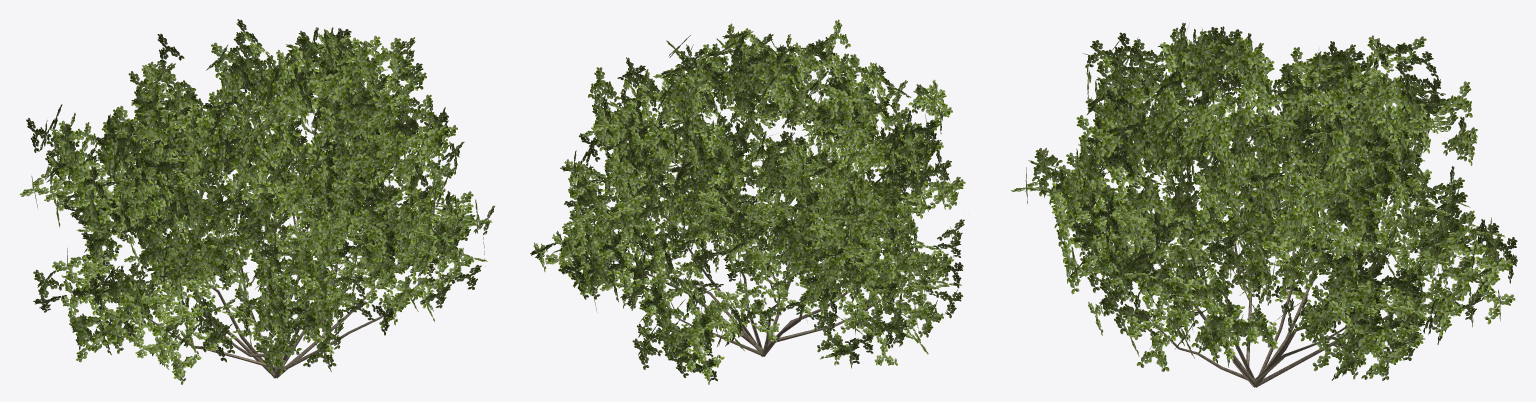
File: Cercocarpus_Montanus_Autumn_Young.glb
The picture shows the model from 3 angles, left to right: view 1: azimuth 30°, elevation 25°; view 2: azimuth 150°, elevation 25°; view 3: azimuth 270°, elevation 25°; orthographic projection. The views are drawn at different scales.
Parts seen in each view (by area): view 1: Cercocarpus_Montanus_Autumn_Young__LOD3; view 2: Cercocarpus_Montanus_Autumn_Young__LOD3; view 3: Cercocarpus_Montanus_Autumn_Young__LOD3.
Part boxes in pixels (box(x1,y1,x2,y2)): Cercocarpus_Montanus_Autumn_Young__LOD3: box(20, 19, 494, 384); Cercocarpus_Montanus_Autumn_Young__LOD3: box(530, 19, 965, 384); Cercocarpus_Montanus_Autumn_Young__LOD3: box(1011, 23, 1517, 387).
Size of the model in its own units: 2.11 by 1.68 by 2.11.
Materials: 2 (2 with a texture image).
